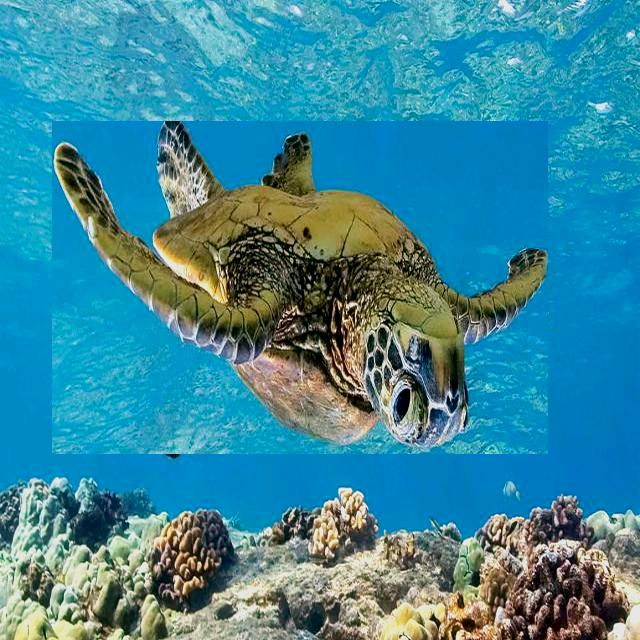Sea turtle: (52, 121, 548, 454)
